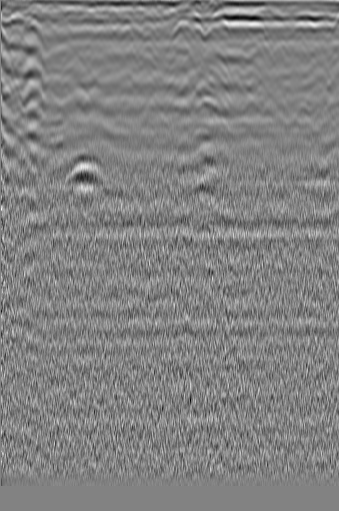상수: (298, 62, 330, 87)
오수: (13, 45, 52, 85)
우수: (131, 40, 164, 72)
